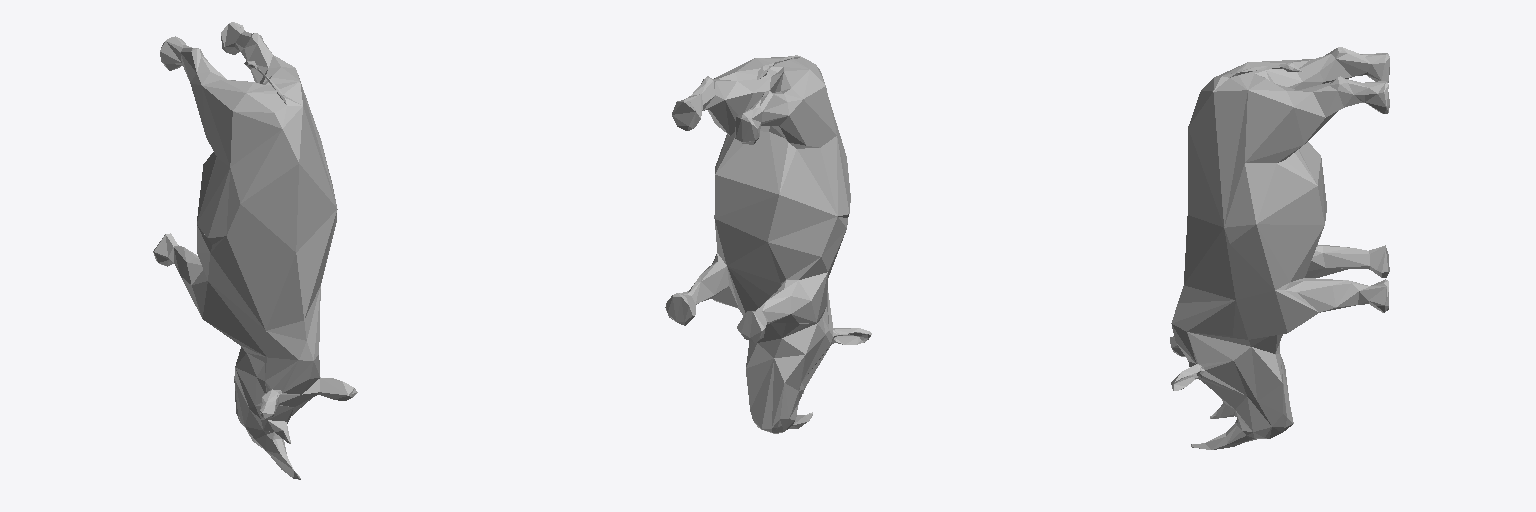
File: rhino.obj
3 views of the same model, side by side, from view 1: azimuth 30°, elevation 25°; view 2: azimuth 150°, elevation 25°; view 3: azimuth 270°, elevation 25° (orthographic).
Visible parts, largest first — view 1: Rhino; view 2: Rhino; view 3: Rhino.
Boxes of the visible parts, x1=… form: Rhino: x1=153, y1=22, x2=357, y2=479; Rhino: x1=665, y1=55, x2=871, y2=433; Rhino: x1=1170, y1=47, x2=1389, y2=449.
Bounding box in the file's own units: 51465 × 146594 × 75635.